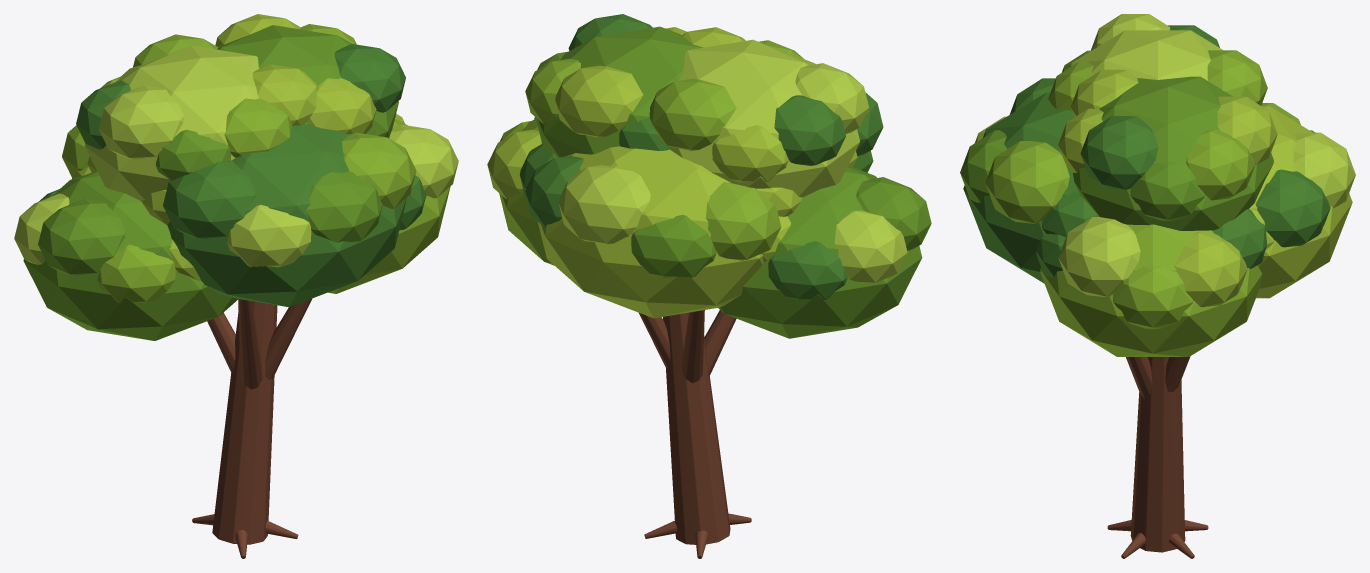
Rendered from Tree_Oak.glb.
3 renders of one model, left to right at view 1: azimuth 30°, elevation 25°; view 2: azimuth 150°, elevation 25°; view 3: azimuth 270°, elevation 25°, orthographic. The views are drawn at different scales.
Parts seen in each view (by area): view 1: Tree_Oak__Foliage, Tree_Oak__Trunk; view 2: Tree_Oak__Foliage, Tree_Oak__Trunk; view 3: Tree_Oak__Foliage, Tree_Oak__Trunk.
Part boxes in pixels (box(x1,y1,x2,y2)): Tree_Oak__Foliage: box(14, 14, 458, 340); Tree_Oak__Trunk: box(192, 298, 311, 558); Tree_Oak__Foliage: box(487, 14, 931, 338); Tree_Oak__Trunk: box(639, 310, 751, 558); Tree_Oak__Foliage: box(960, 14, 1355, 356); Tree_Oak__Trunk: box(1107, 356, 1208, 558).
Bounding box in the file's own units: 9.4 × 10.73 × 7.99.
